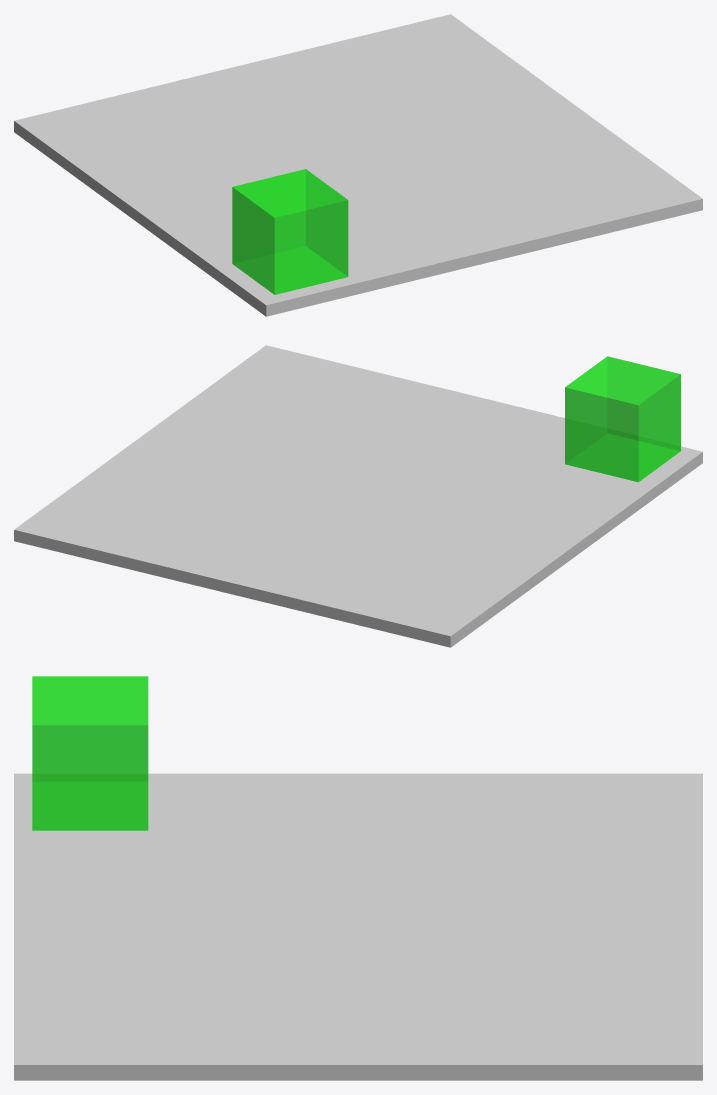
3 renders of one model, top to bottom at view 1: azimuth 30°, elevation 25°; view 2: azimuth 150°, elevation 25°; view 3: azimuth 270°, elevation 25°, orthographic. The views are drawn at different scales.
Parts seen in each view (by area): view 1: COL_BOX, TRIGGER_NewEvent; view 2: COL_BOX, TRIGGER_NewEvent; view 3: COL_BOX, TRIGGER_NewEvent.
Boxes of the visible parts, bbox=[...] form: COL_BOX: bbox=[14, 14, 702, 316]; TRIGGER_NewEvent: bbox=[232, 169, 348, 294]; COL_BOX: bbox=[14, 345, 702, 647]; TRIGGER_NewEvent: bbox=[565, 356, 680, 482]; COL_BOX: bbox=[14, 773, 702, 1080]; TRIGGER_NewEvent: bbox=[32, 676, 148, 830].
Size of the model in its own units: 4 by 0.7888 by 4.
Materials: 1 (1 with a texture image).
